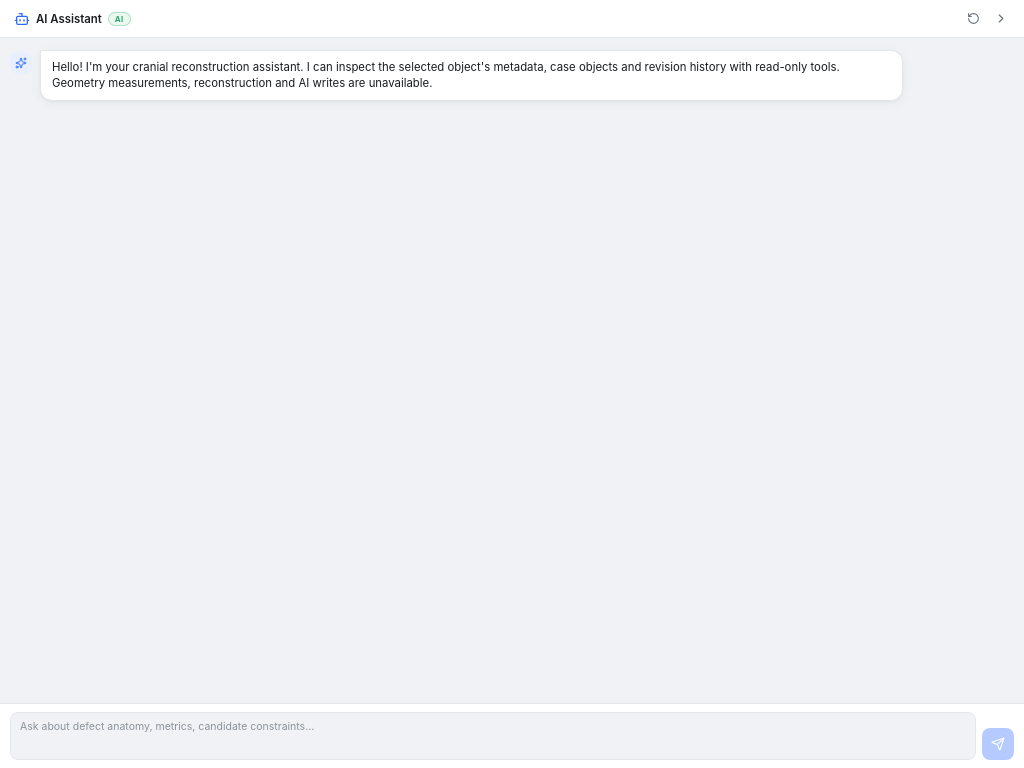
Test: subagent trace and source links (ai-deep-agent-research R18, R19) › S9: groups a research subagent run with its steps and result, counted separately in the summary
Type "Papers on PEEK?" into the text box named "Message for AI assistant". click: (493, 736)
box: [10, 712, 976, 760]
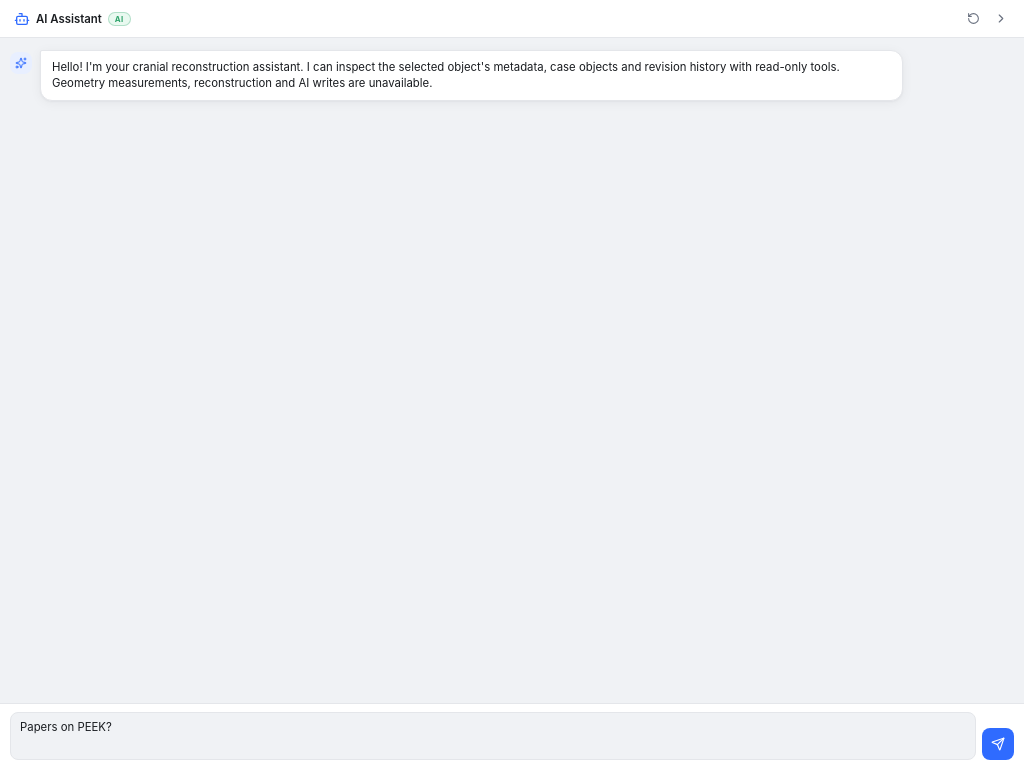
Click the button named "Send message to AI assistant". click: (998, 744)
box: [982, 728, 1014, 760]
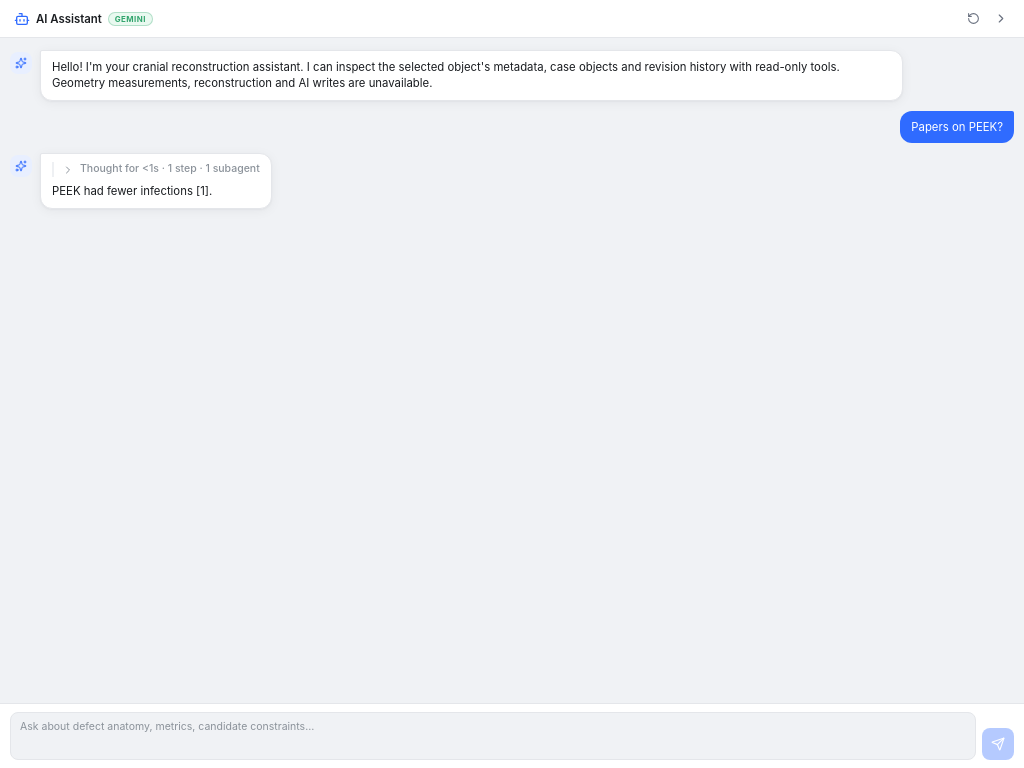
Check: the text "PEEK had fewer infections [1]." is shown, box [52, 184, 212, 198]
